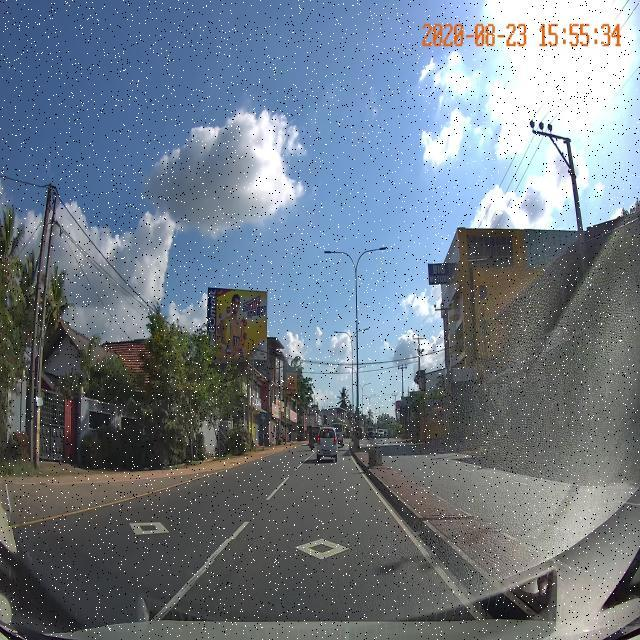diamond: (209, 540, 434, 560)
